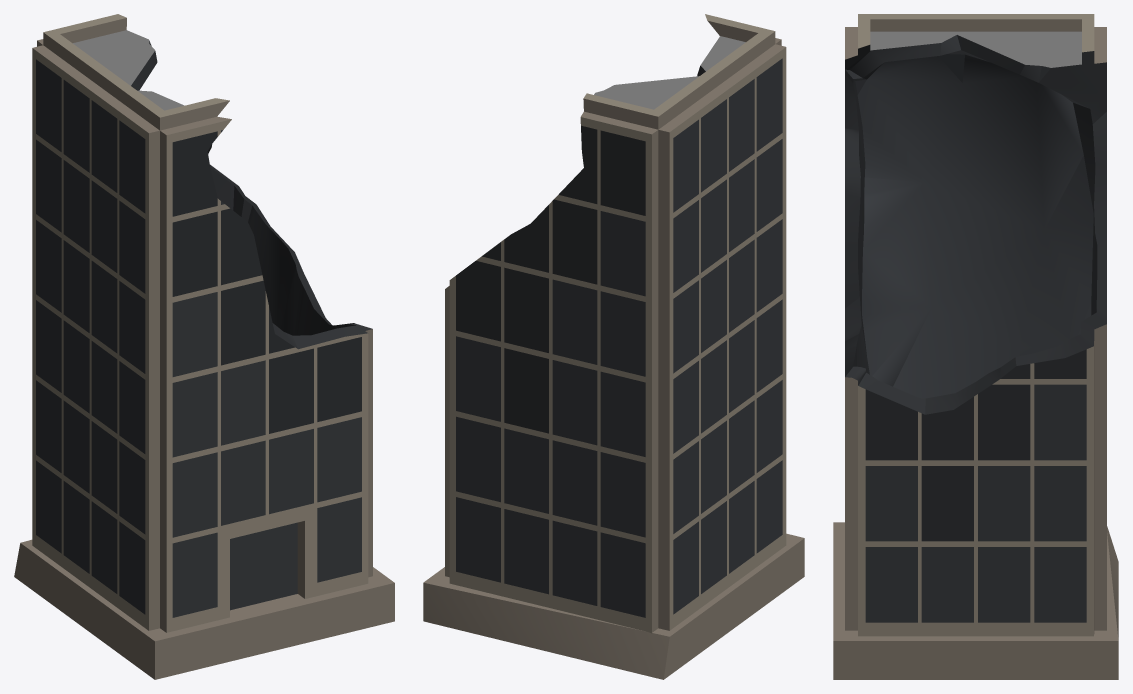
File: SM_Bld_City_Destroyed_03.fbx
The picture shows the model from 3 angles, left to right: view 1: azimuth 30°, elevation 25°; view 2: azimuth 150°, elevation 25°; view 3: azimuth 270°, elevation 25°; orthographic projection.
Parts seen in each view (by area): view 1: SM_Bld_City_Destroyed_03; view 2: SM_Bld_City_Destroyed_03; view 3: SM_Bld_City_Destroyed_03.
Boxes of the visible parts, x1,y1,x2,y2 form: SM_Bld_City_Destroyed_03: [14, 14, 394, 679]; SM_Bld_City_Destroyed_03: [423, 14, 804, 679]; SM_Bld_City_Destroyed_03: [833, 14, 1118, 679].
Size of the model in its own units: 52.19 by 114 by 53.05.
